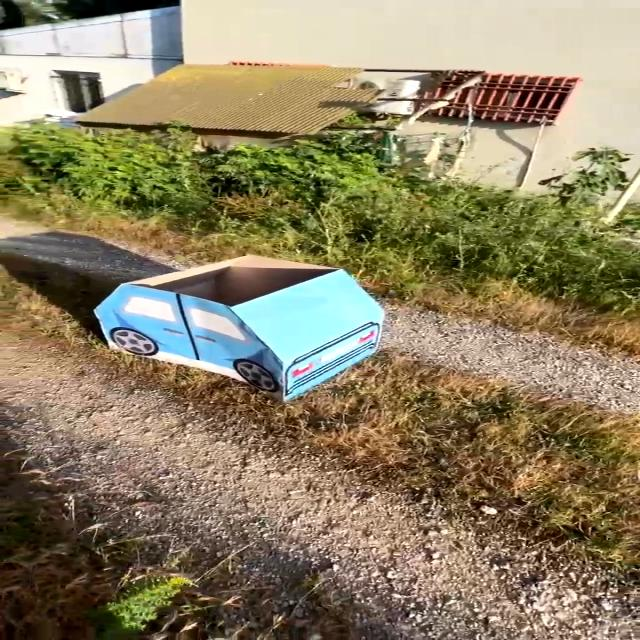blue_car: (48, 234, 439, 420)
